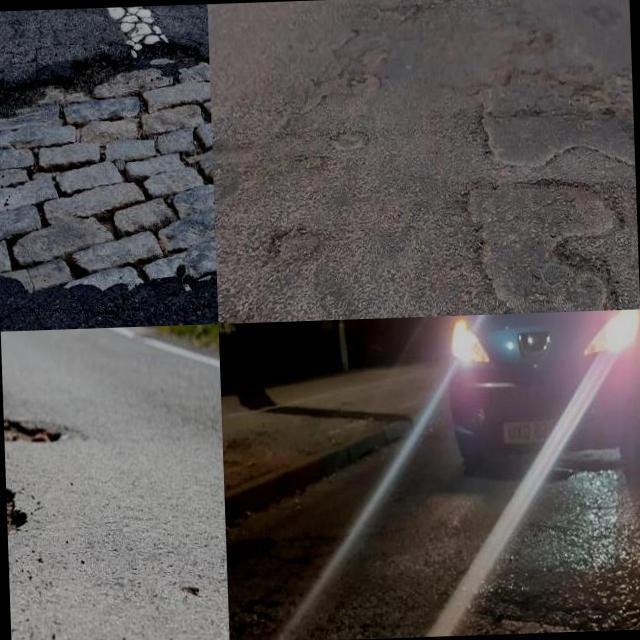Pothole: (0, 42, 216, 292), (467, 178, 625, 313), (476, 103, 635, 171)
